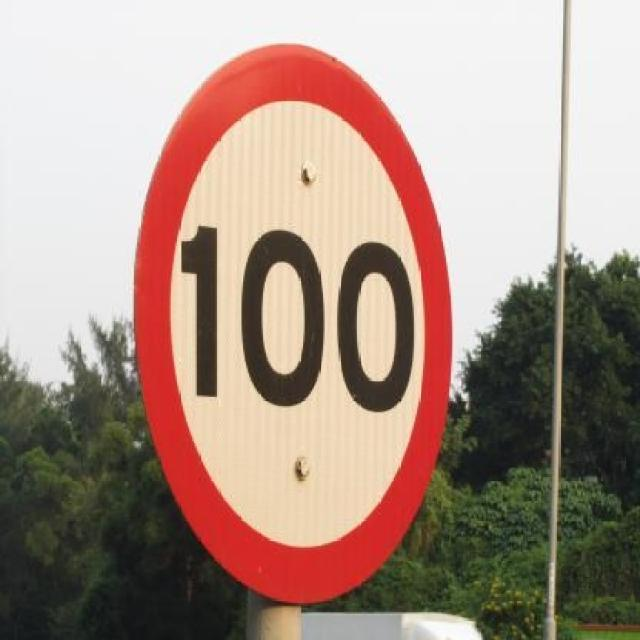forb_speed_over_100: (139, 45, 450, 602)
